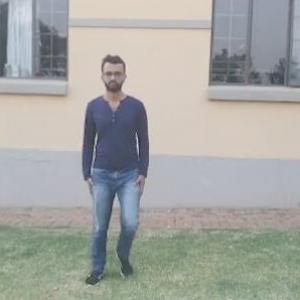follow: (86, 56, 150, 276)
